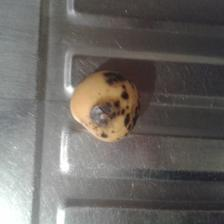Mango Semirotten: (65, 67, 143, 144)
